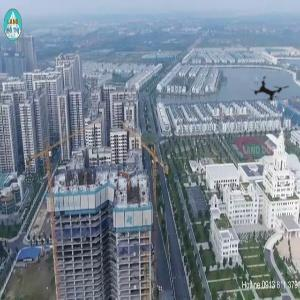drone: (240, 61, 300, 121)
